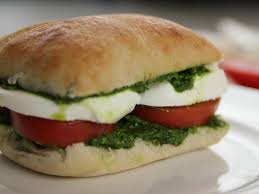sandwich: (1, 1, 242, 194)
